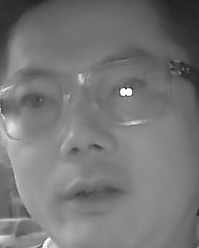eye: (18, 89, 56, 112)
glass: (85, 56, 171, 126), (1, 72, 65, 141)
mouth: (58, 177, 129, 215)
